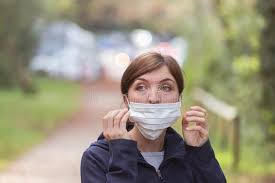mask_weared_incorrect: (128, 77, 179, 133)
